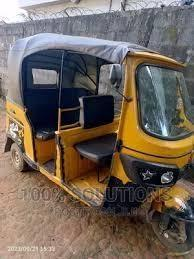keke: (4, 31, 194, 259)
